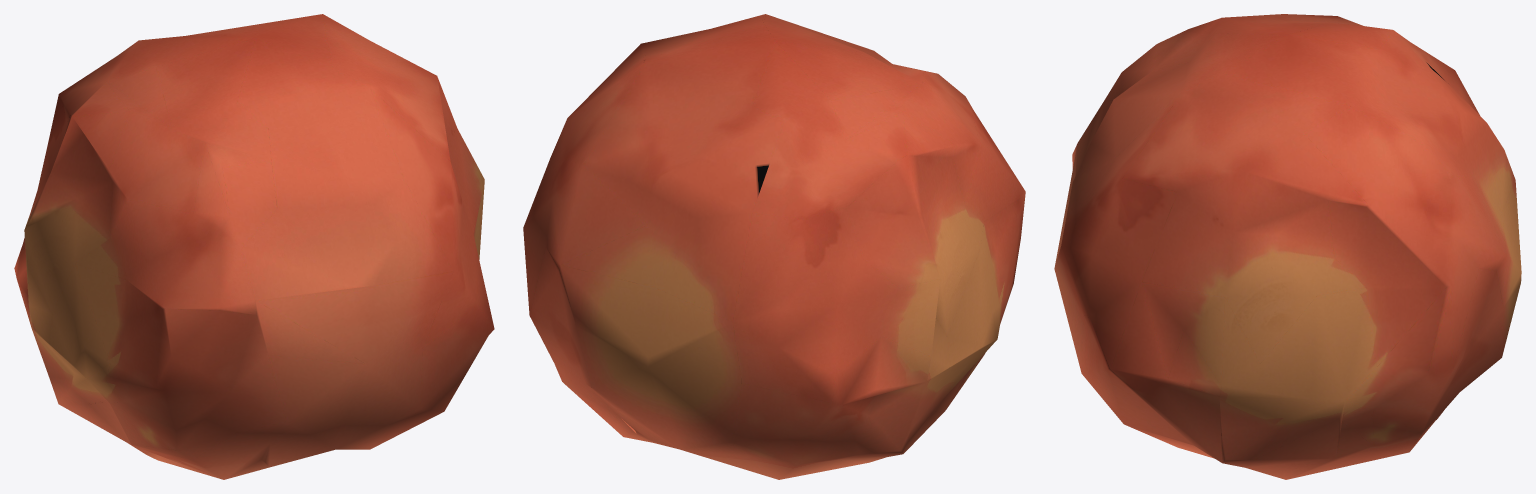
Rendered from M_Fire_Bullet.obj.
The picture shows the model from 3 angles, left to right: view 1: azimuth 30°, elevation 25°; view 2: azimuth 150°, elevation 25°; view 3: azimuth 270°, elevation 25°; orthographic projection.
Visible parts, largest first — view 1: tripo_node_ba80686c-16ec-4c2d-9726-5f0902e9cf7a; view 2: tripo_node_ba80686c-16ec-4c2d-9726-5f0902e9cf7a; view 3: tripo_node_ba80686c-16ec-4c2d-9726-5f0902e9cf7a.
Part boxes in pixels (<box>): tripo_node_ba80686c-16ec-4c2d-9726-5f0902e9cf7a: <box>14,14,494,479</box>; tripo_node_ba80686c-16ec-4c2d-9726-5f0902e9cf7a: <box>523,14,1025,479</box>; tripo_node_ba80686c-16ec-4c2d-9726-5f0902e9cf7a: <box>1054,14,1521,479</box>.
Bounding box in the file's own units: 0.9604 × 0.9354 × 0.9845.
Materials: 1 (1 with a texture image).
